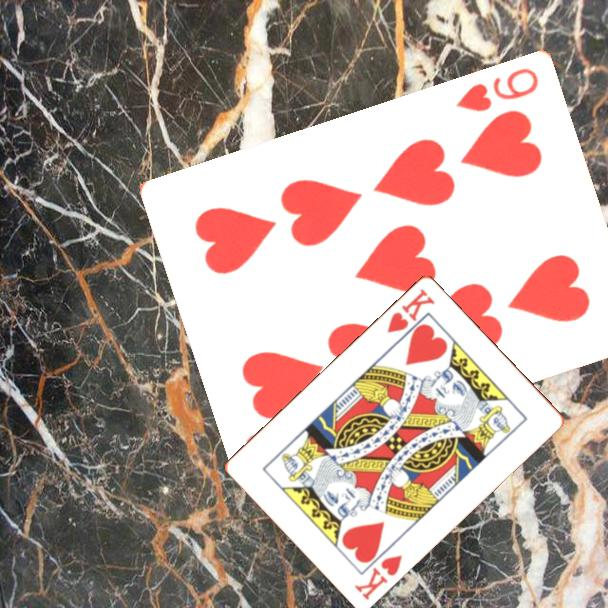h09: (452, 64, 542, 115)
h13: (383, 284, 438, 336), (351, 551, 405, 603)
